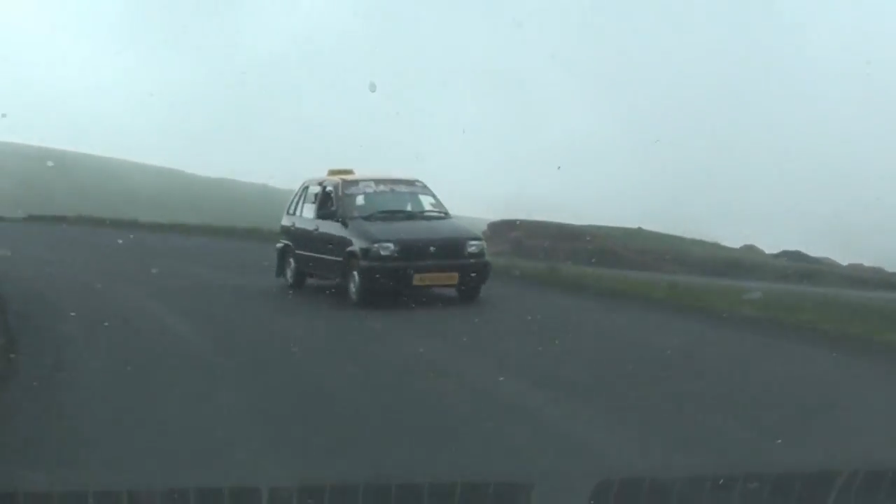car: (274, 166, 493, 305)
